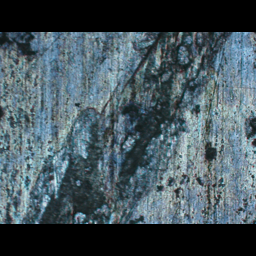d: (13, 32, 239, 223)
